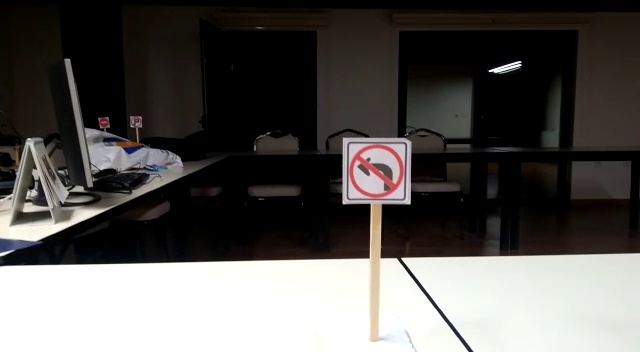sola_donulmez: (344, 144, 405, 199)
